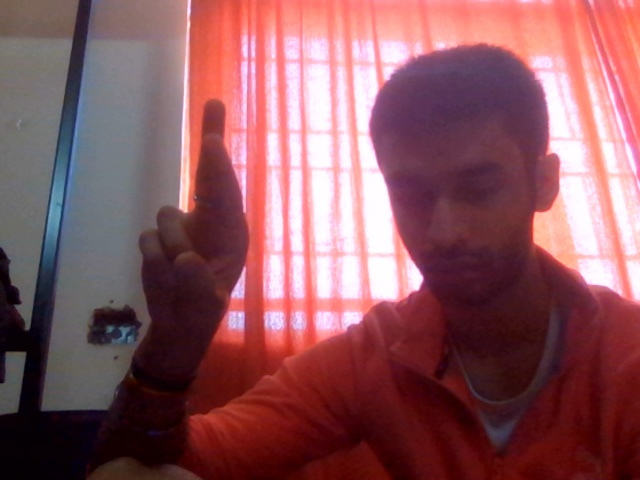R: (116, 82, 279, 381)
